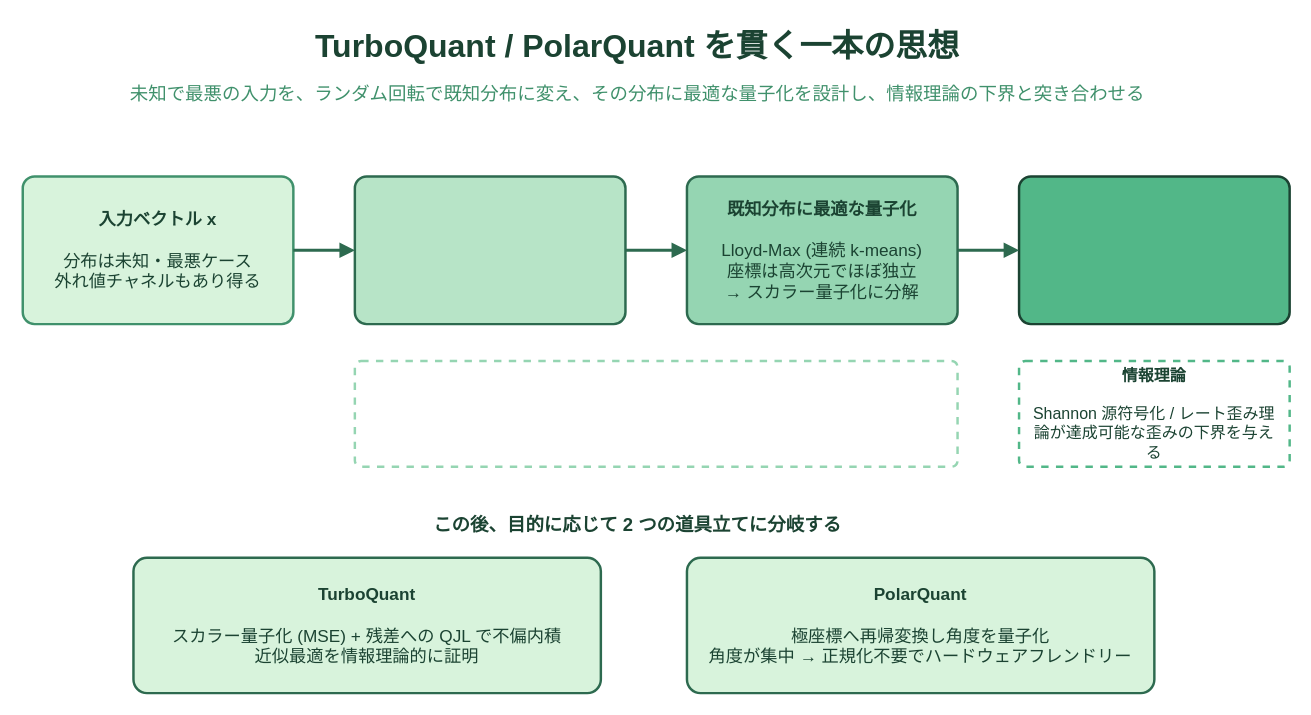
Some shapes in this 1311 by 715 pixel diagram are drawn without their labels. The box of each missing label's shape, as (x1, y1, x2, y2) in pixels:
Shannon 下界と比較 D(B) ≥ 1/4^b 達成歪み ≤ (√3π/2)/4^b → 定数倍 2.7x の近似最適: (1017, 175, 1290, 325)
ランダム回転 Π 内積・ノルムを厳密に保つ Πx は球面上に一様分布 → 既知分布 (Beta / Gauss): (353, 175, 626, 325)
数理統計 集中不等式・Beta 分布・座標の near-independence・大数の法則が、回転後の分布と最適量子化を支える: (353, 359, 958, 467)
